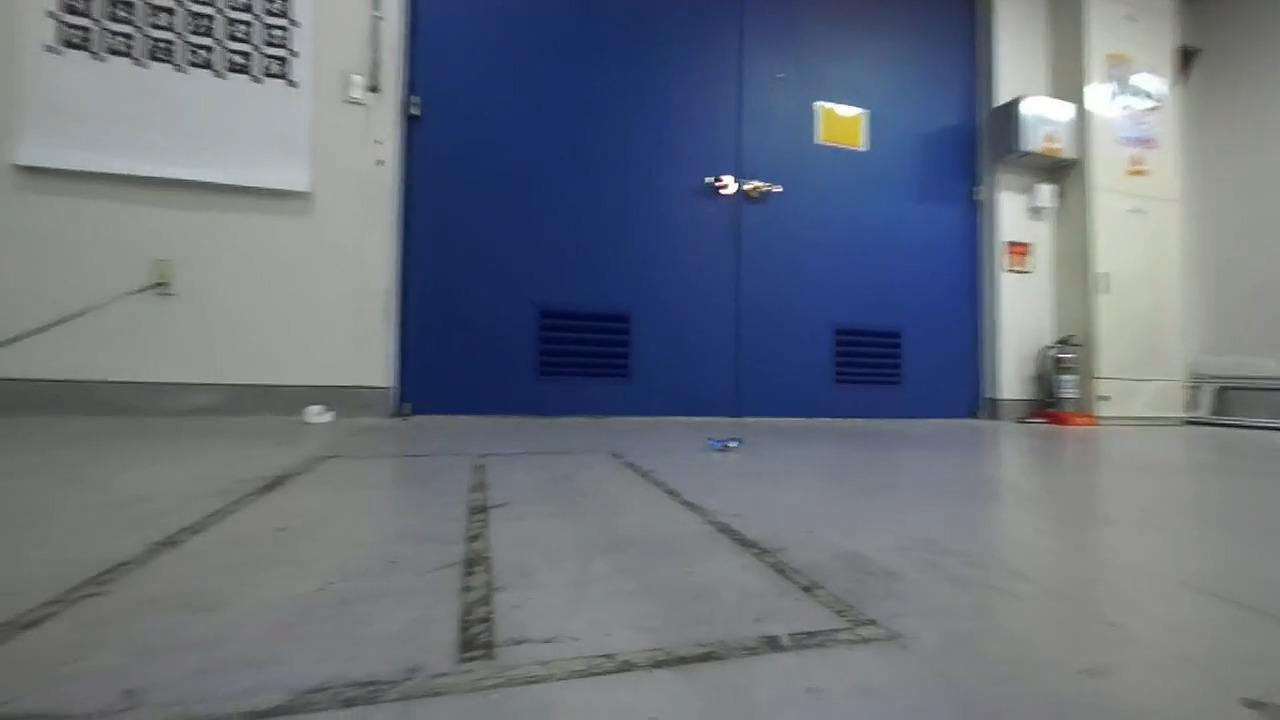crazyflie: (702, 429, 756, 456)
